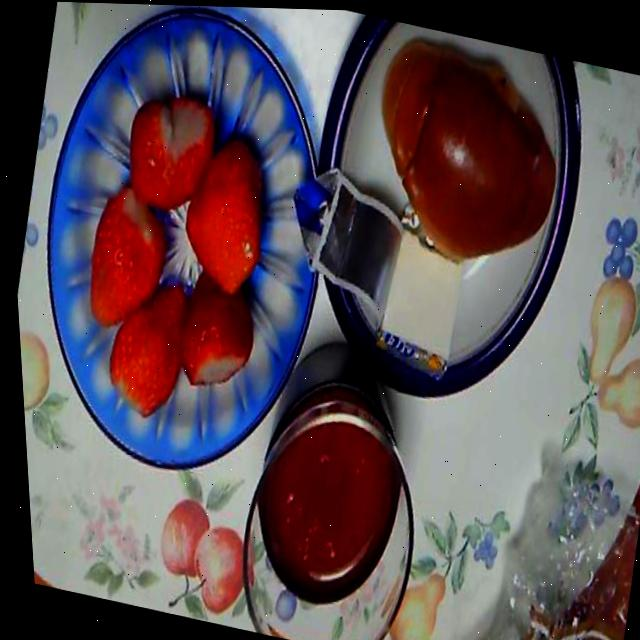面包点心: (348, 23, 581, 275)
